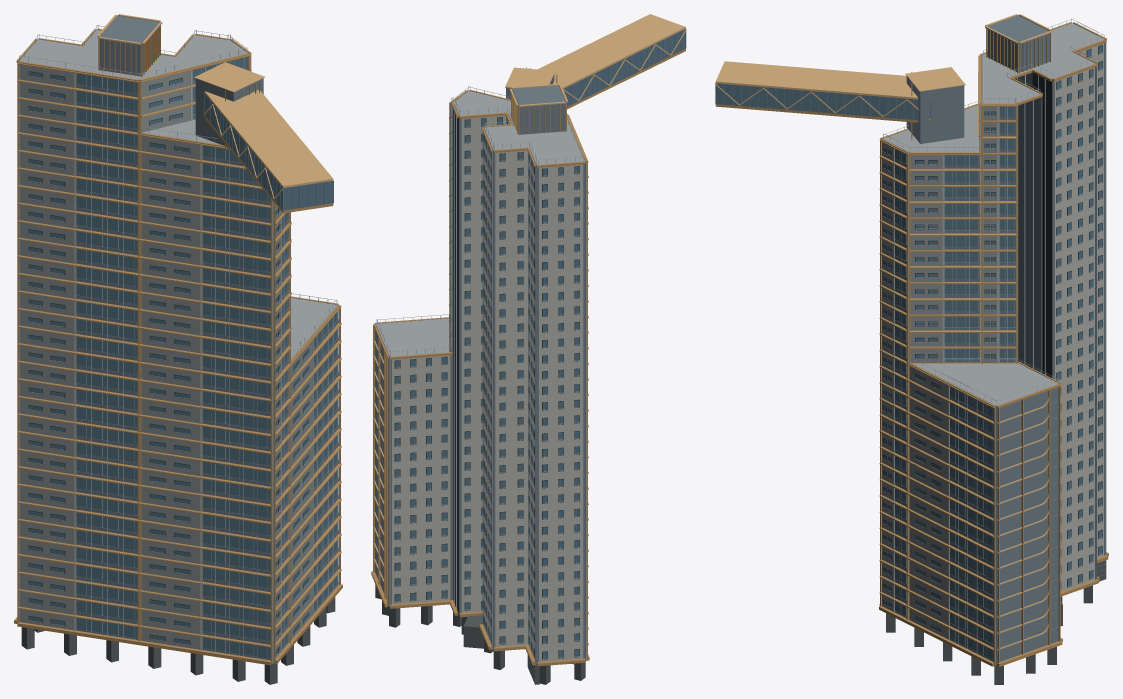
The model's file is bespoke-raemian-onepentas-101.glb.
The picture shows the model from 3 angles, left to right: view 1: azimuth 30°, elevation 25°; view 2: azimuth 150°, elevation 25°; view 3: azimuth 270°, elevation 25°; orthographic projection. The views are drawn at different scales.
Parts seen in each view (by area): view 1: bespoke-raemian-onepentas-101_export_batch_6, bespoke-raemian-onepentas-101_export_batch_10, bespoke-raemian-onepentas-101_export_batch_2, bespoke-raemian-onepentas-101_export_batch_4, bespoke-raemian-onepentas-101_export_batch_9, bespoke-raemian-onepentas-101_export_batch_3, bespoke-raemian-onepentas-101_export_batch_7, bespoke-raemian-onepentas-101_export_batch_5, bespoke-raemian-onepentas-101_export_batch_8, bespoke-raemian-onepentas-101_export_batch_1; view 2: bespoke-raemian-onepentas-101_export_batch_7, bespoke-raemian-onepentas-101_export_batch_6, bespoke-raemian-onepentas-101_export_batch_4, bespoke-raemian-onepentas-101_export_batch_8, bespoke-raemian-onepentas-101_export_batch_2, bespoke-raemian-onepentas-101_export_batch_3, bespoke-raemian-onepentas-101_export_batch_9, bespoke-raemian-onepentas-101_export_batch_5, bespoke-raemian-onepentas-101_export_batch_1; view 3: bespoke-raemian-onepentas-101_export_batch_6, bespoke-raemian-onepentas-101_export_batch_4, bespoke-raemian-onepentas-101_export_batch_7, bespoke-raemian-onepentas-101_export_batch_2, bespoke-raemian-onepentas-101_export_batch_10, bespoke-raemian-onepentas-101_export_batch_8, bespoke-raemian-onepentas-101_export_batch_9, bespoke-raemian-onepentas-101_export_batch_3, bespoke-raemian-onepentas-101_export_batch_5, bespoke-raemian-onepentas-101_export_batch_1.
Part boxes in pixels (x1,y1,x2,y2): bespoke-raemian-onepentas-101_export_batch_6: [28, 57, 338, 658]; bespoke-raemian-onepentas-101_export_batch_10: [19, 64, 312, 657]; bespoke-raemian-onepentas-101_export_batch_2: [14, 15, 342, 665]; bespoke-raemian-onepentas-101_export_batch_4: [76, 16, 338, 660]; bespoke-raemian-onepentas-101_export_batch_9: [17, 14, 341, 646]; bespoke-raemian-onepentas-101_export_batch_3: [19, 25, 337, 658]; bespoke-raemian-onepentas-101_export_batch_7: [19, 32, 339, 663]; bespoke-raemian-onepentas-101_export_batch_5: [19, 30, 337, 359]; bespoke-raemian-onepentas-101_export_batch_8: [28, 71, 309, 652]; bespoke-raemian-onepentas-101_export_batch_1: [21, 597, 335, 684]; bespoke-raemian-onepentas-101_export_batch_7: [389, 103, 586, 663]; bespoke-raemian-onepentas-101_export_batch_6: [375, 29, 685, 663]; bespoke-raemian-onepentas-101_export_batch_4: [375, 31, 686, 663]; bespoke-raemian-onepentas-101_export_batch_8: [394, 110, 579, 659]; bespoke-raemian-onepentas-101_export_batch_2: [371, 49, 685, 666]; bespoke-raemian-onepentas-101_export_batch_3: [375, 86, 584, 673]; bespoke-raemian-onepentas-101_export_batch_9: [374, 14, 686, 644]; bespoke-raemian-onepentas-101_export_batch_5: [376, 91, 584, 356]; bespoke-raemian-onepentas-101_export_batch_1: [375, 584, 585, 684]; bespoke-raemian-onepentas-101_export_batch_6: [716, 45, 1102, 664]; bespoke-raemian-onepentas-101_export_batch_4: [715, 15, 1106, 665]; bespoke-raemian-onepentas-101_export_batch_7: [880, 43, 1104, 665]; bespoke-raemian-onepentas-101_export_batch_2: [715, 15, 1108, 666]; bespoke-raemian-onepentas-101_export_batch_10: [882, 106, 997, 638]; bespoke-raemian-onepentas-101_export_batch_8: [883, 45, 1102, 633]; bespoke-raemian-onepentas-101_export_batch_9: [715, 14, 1051, 650]; bespoke-raemian-onepentas-101_export_batch_3: [883, 18, 1105, 659]; bespoke-raemian-onepentas-101_export_batch_5: [883, 23, 1104, 406]; bespoke-raemian-onepentas-101_export_batch_1: [886, 560, 1106, 684].
Bounding box in the file's own units: 51.87 × 108 × 67.62.
